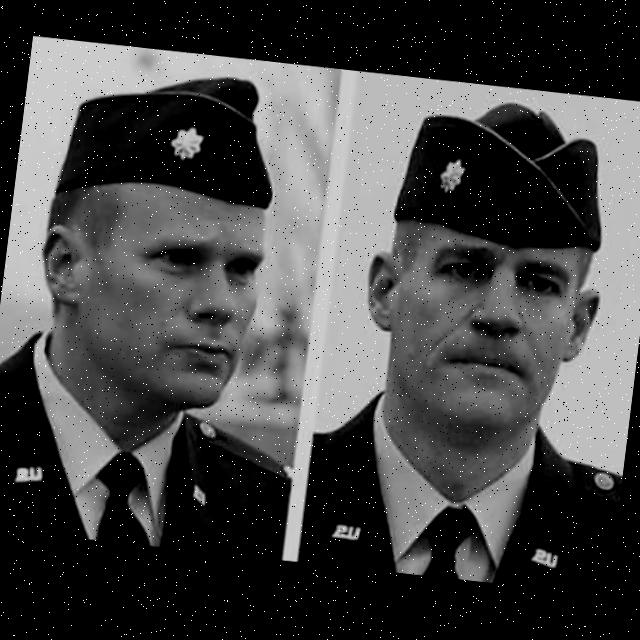face: (23, 148, 289, 418), (372, 199, 600, 457)
